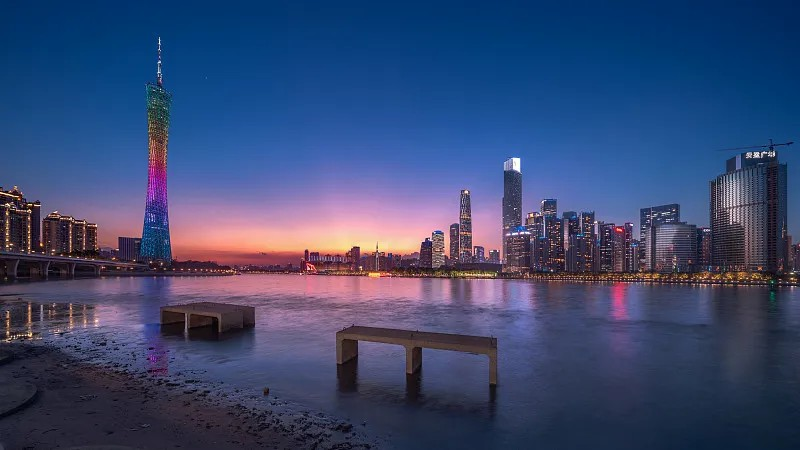Canton: (141, 32, 172, 261)
